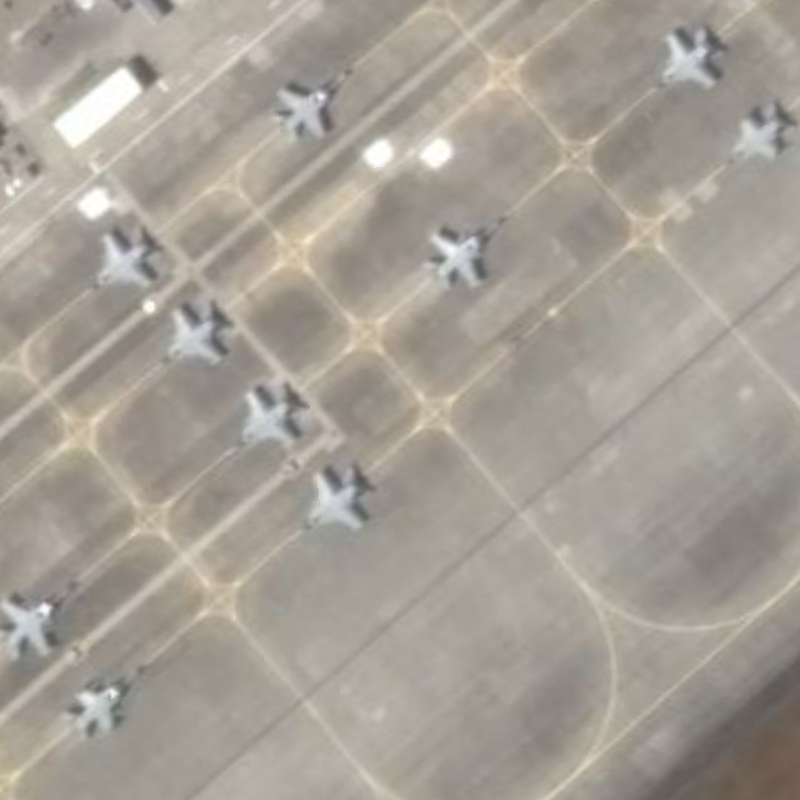A16: (272, 460, 376, 556), (69, 212, 163, 309), (415, 208, 514, 300), (636, 17, 732, 108), (1, 569, 87, 669), (265, 61, 357, 151), (52, 658, 148, 744), (143, 296, 233, 381), (707, 95, 795, 180), (210, 382, 304, 456)
